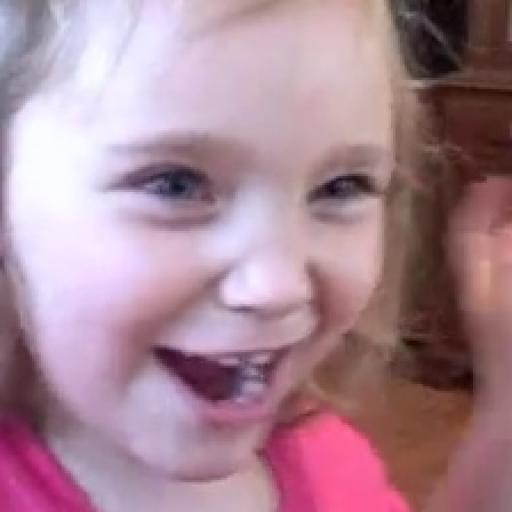Autism: (0, 0, 468, 507)
